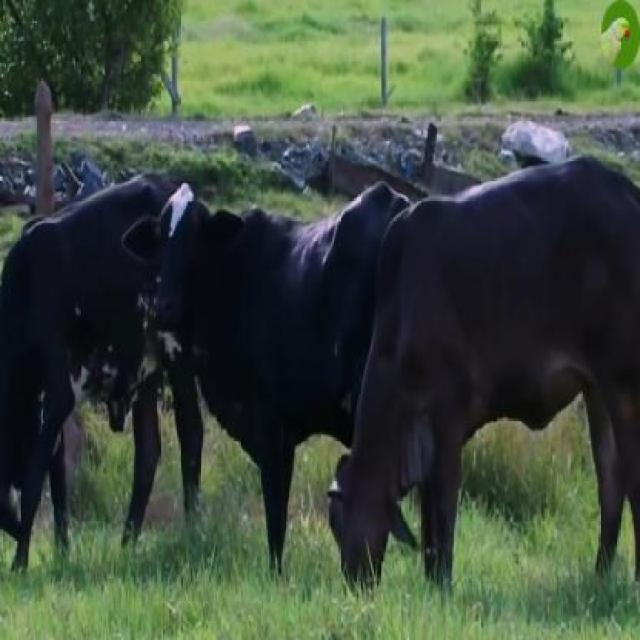Cow: (331, 159, 638, 603), (126, 183, 329, 575)
